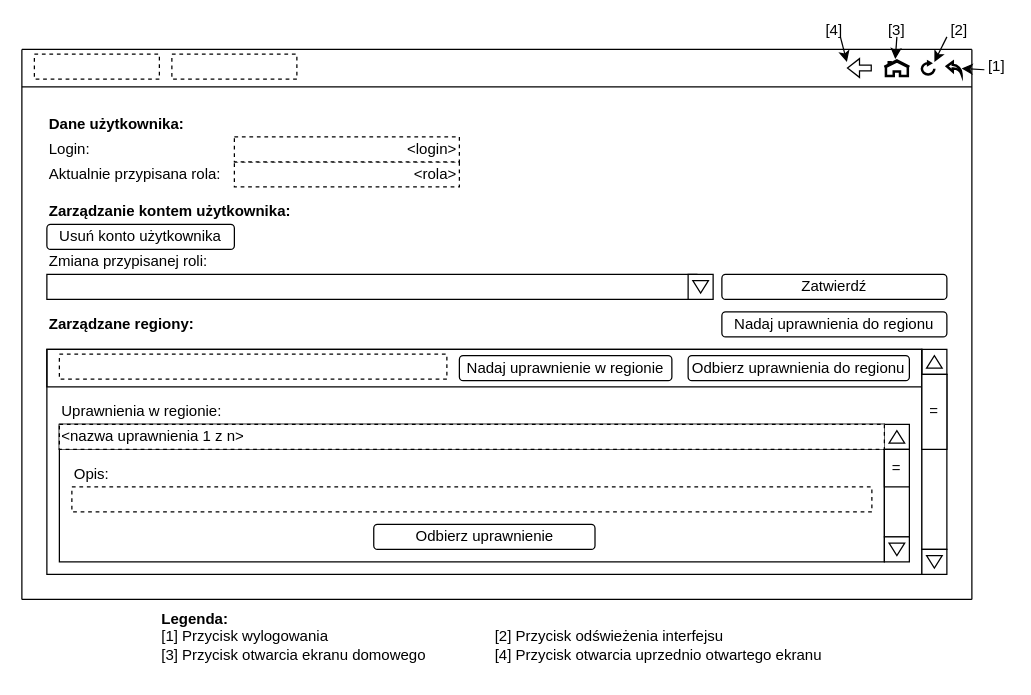
The diagram is 1031 pixels wide and 695 high, and some of its shapes have lost their labels. The shapes that lost their labels are listed below. From the top down, each one's box as (x1, y1, x2, y2) in pixels, then its label:
(33, 53, 159, 79): login
(171, 53, 297, 79): rola
(46, 273, 697, 299): lista jednokrotnego wyboru z listy dostępnych ról
(58, 353, 447, 379): <województwo, <powiat>, <gmina>
(71, 486, 872, 512): opis typu uprawnień 1 z n
